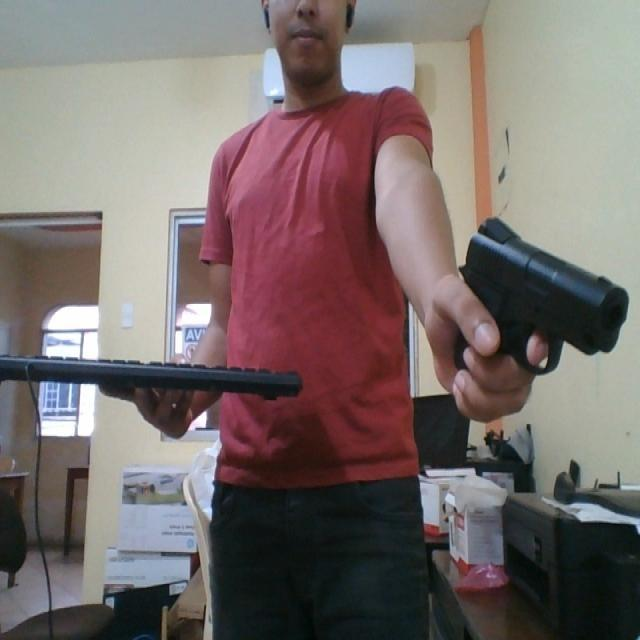Gun: (421, 208, 630, 408)
